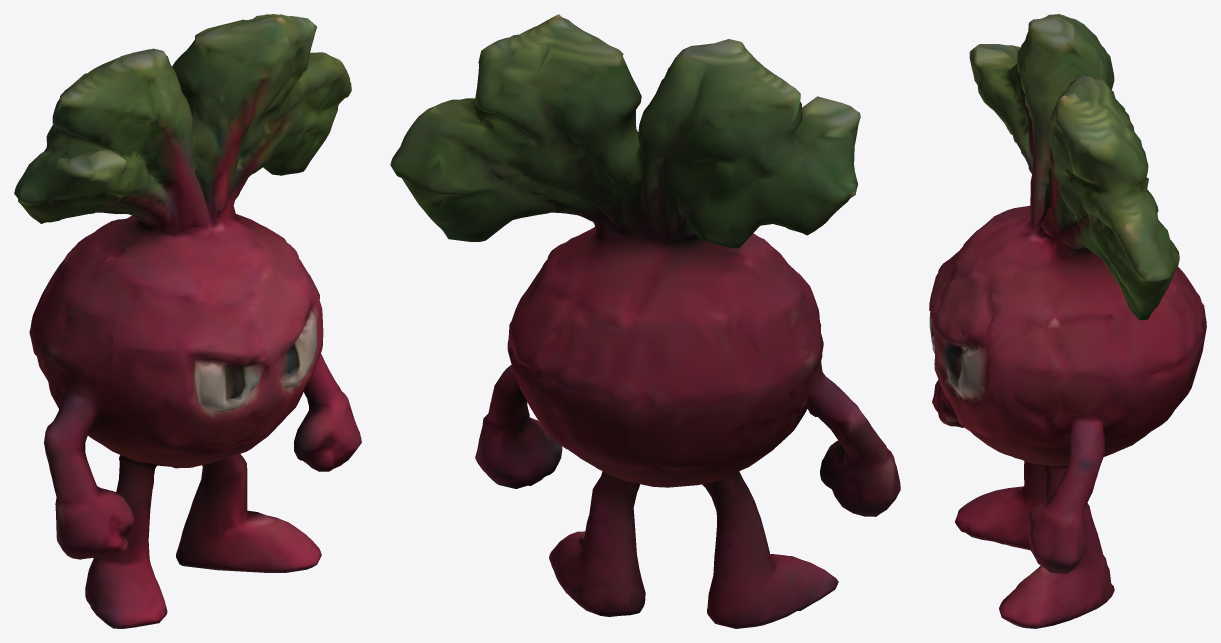
Rendered from beet.glb.
The picture shows the model from 3 angles, left to right: view 1: azimuth 30°, elevation 25°; view 2: azimuth 150°, elevation 25°; view 3: azimuth 270°, elevation 25°; orthographic projection. The views are drawn at different scales.
Visible parts, largest first — view 1: beet; view 2: beet; view 3: beet.
Part boxes in pixels (<box>): beet: <box>14,14,361,628</box>; beet: <box>390,14,900,628</box>; beet: <box>929,14,1206,628</box>.
Bounding box in the file's own units: 0.8984 × 1.2 × 0.5685.
